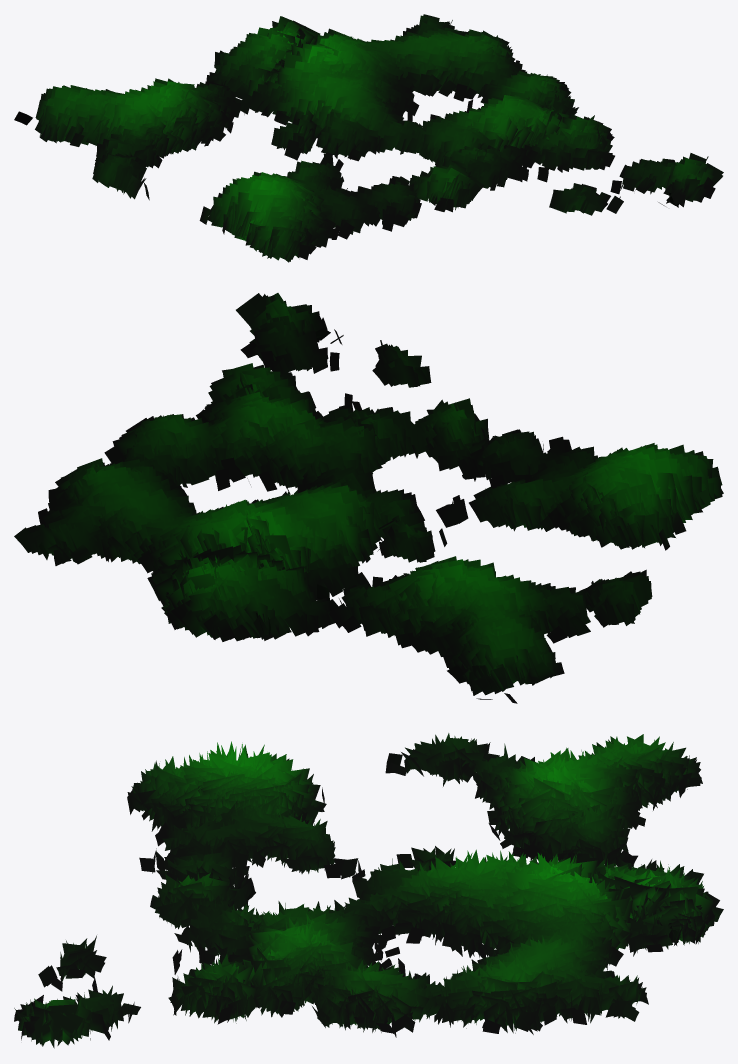
The model's file is SM_Floating_Island_Grass_02.FBX.
3 renders of one model, top to bottom at view 1: azimuth 30°, elevation 25°; view 2: azimuth 150°, elevation 25°; view 3: azimuth 270°, elevation 25°, orthographic. The views are drawn at different scales.
Parts seen in each view (by area): view 1: SM_Floating_Island_Grass_02; view 2: SM_Floating_Island_Grass_02; view 3: SM_Floating_Island_Grass_02.
Boxes of the visible parts, bbox=[...] form: SM_Floating_Island_Grass_02: bbox=[14, 14, 723, 262]; SM_Floating_Island_Grass_02: bbox=[14, 293, 723, 703]; SM_Floating_Island_Grass_02: bbox=[14, 733, 723, 1048].
Size of what is drawn, in the model's own units: 3470 by 3489 by 429.
